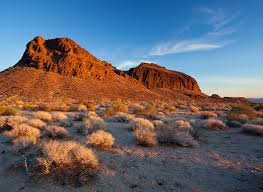field: (3, 108, 261, 192)
mountain: (13, 45, 205, 104)
sky: (79, 3, 263, 69)
